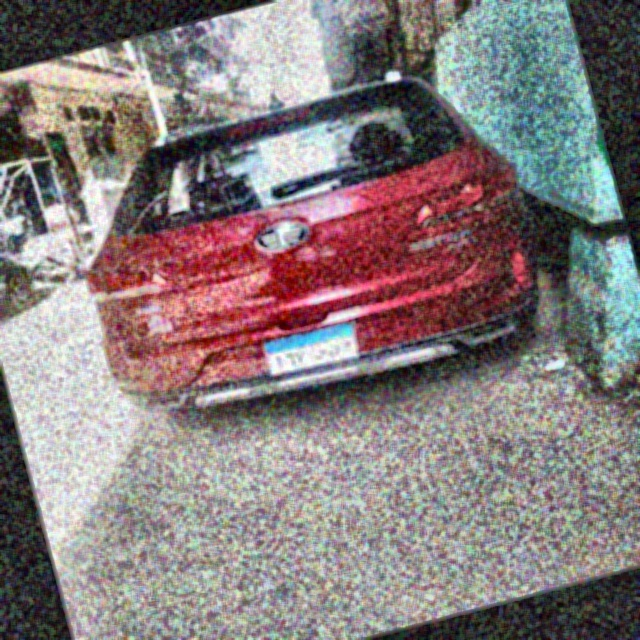License Plate: (260, 318, 363, 382)
